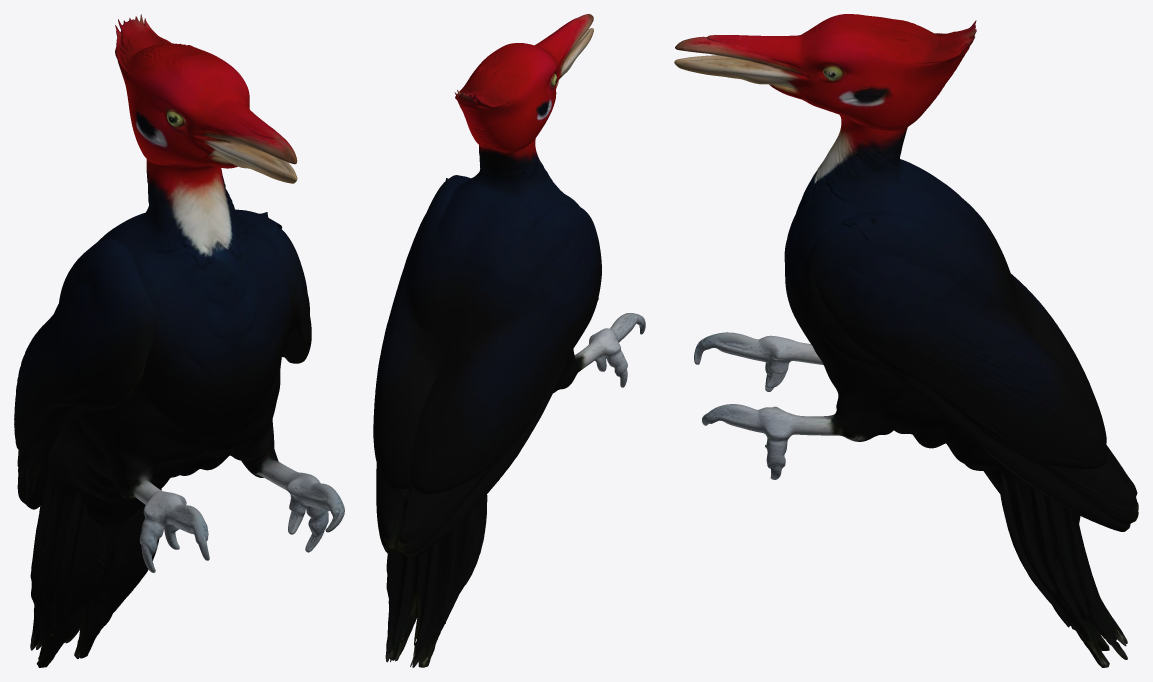
The model's file is carpintero.glb.
3 views of the same model, side by side, from view 1: azimuth 30°, elevation 25°; view 2: azimuth 150°, elevation 25°; view 3: azimuth 270°, elevation 25° (orthographic). The views are drawn at different scales.
Parts seen in each view (by area): view 1: material; view 2: material; view 3: material.
Part boxes in pixels (x1=…): material: x1=14, y1=14, x2=344, y2=667; material: x1=373, y1=14, x2=645, y2=667; material: x1=674, y1=14, x2=1138, y2=667.
Size of the model in its own units: 0.3452 by 1.03 by 0.6797.
1 material, 1 textured.
